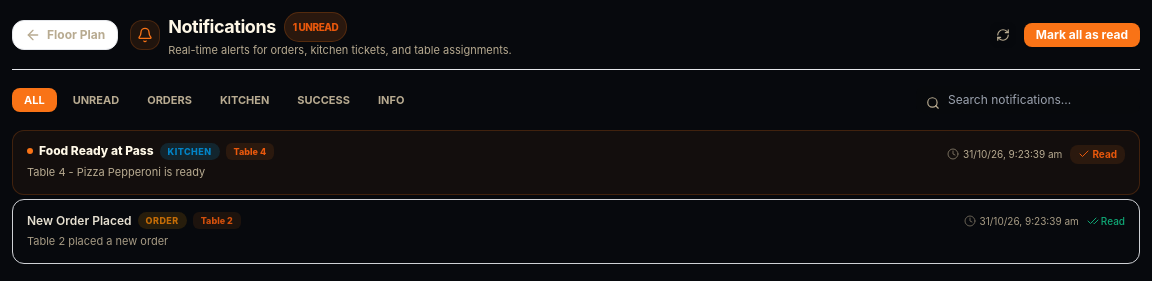
Test: ServerNotificationsView Unit Tests › filters notifications by category tabs and search query
expect the heading "Food Ready at Pass" is shown: met, box [39,143,154,159]
Note: Click UNREAD tab
Click the button "UNREAD": (96, 100) [61,88,131,112]
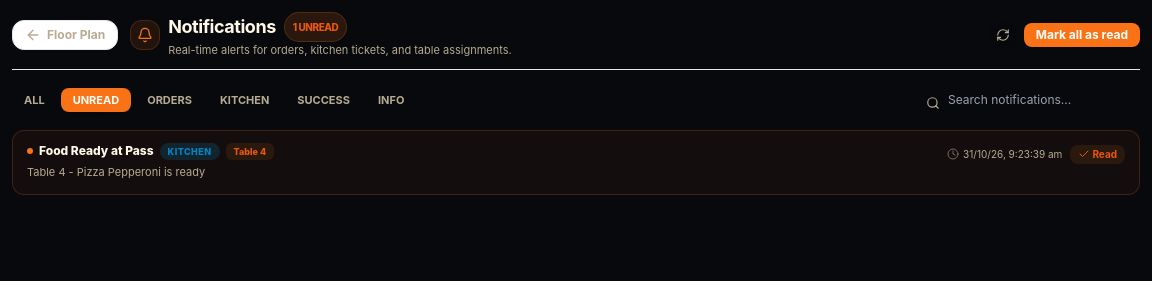
expect the heading "Food Ready at Pass" is shown: met, box [39,143,154,159]
expect the heading "New Order Placed" is gone: met
Note: Click ALL tab
Click the button "ALL": (34, 100) [12,88,57,112]
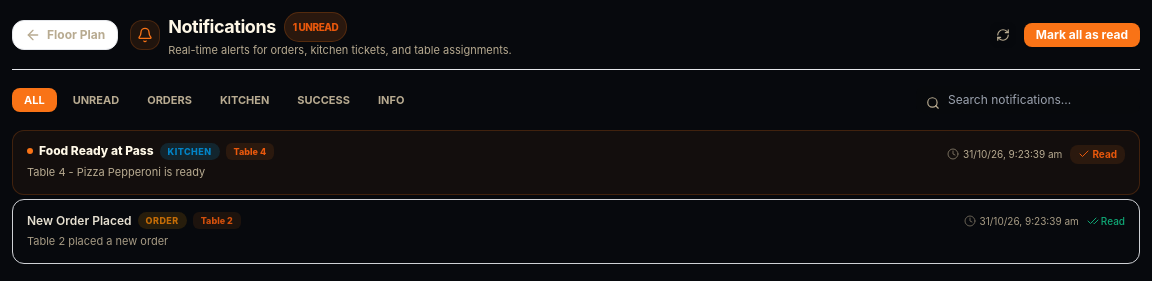
expect the heading "New Order Placed" is shown: met, box [27,213,132,229]
Note: Search Query
In the field with placeholder "Search notifications...": (1028, 100) [916,86,1140,114], type "Pepperoni"
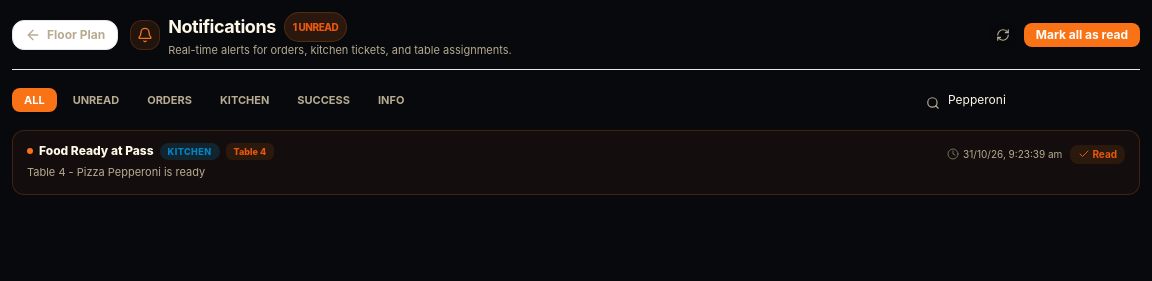
expect the heading "Food Ready at Pass" is shown: met, box [39,143,154,159]
expect the heading "New Order Placed" is gone: met
